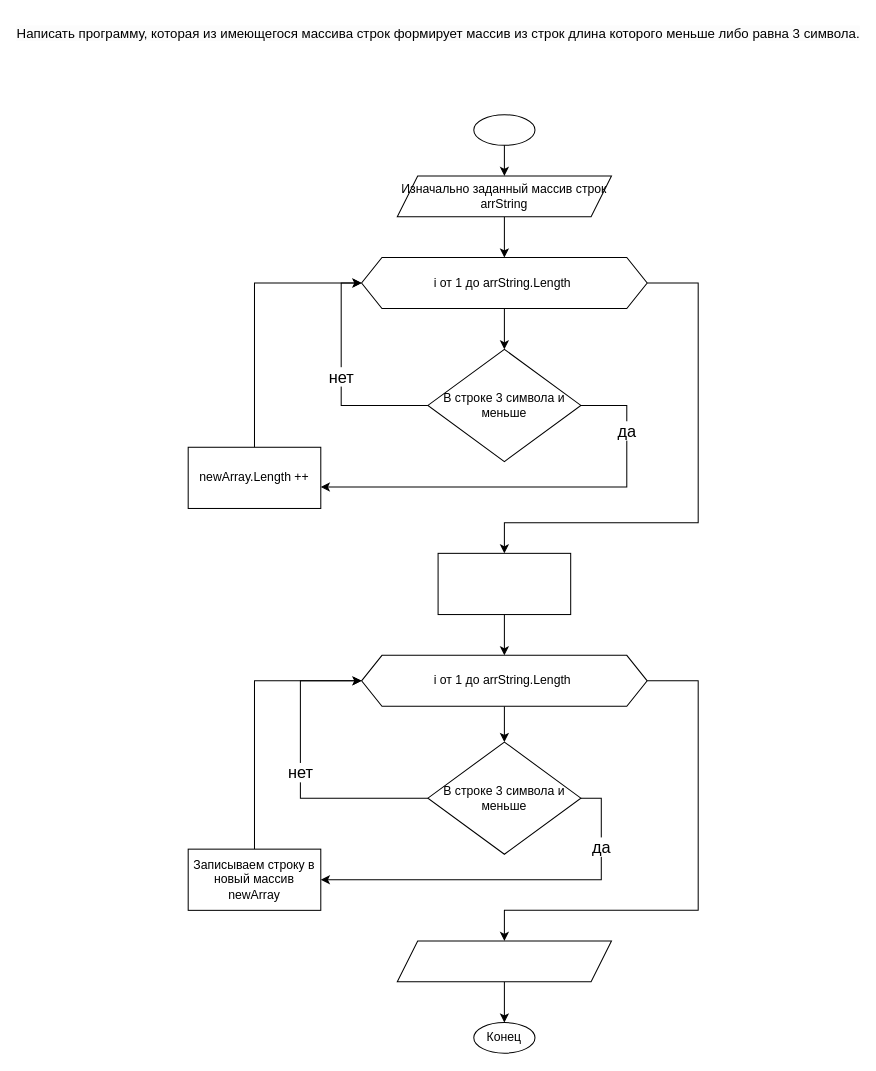
This 876x1071 diagram has some shape labels left out. The shapes that lost their labels are listed below. From the top down, each one's centre as x and y in pixels, then its label:
At [504,129]: "Начало".
At [504,583]: "Создаем новый массив newArray".
At [503,961]: "Заполненный массив newArray".
